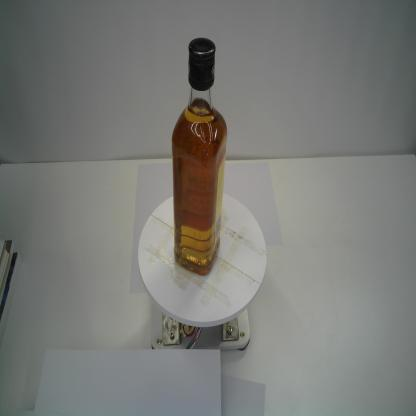Seasoner: (171, 37, 228, 277)
